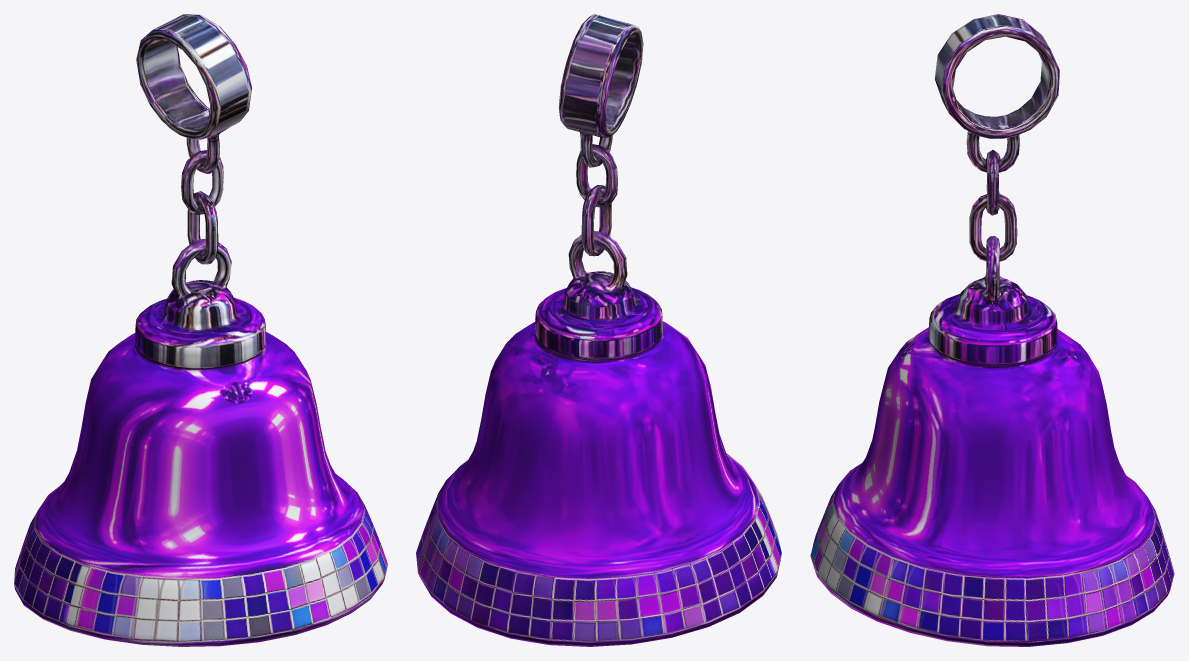
The model's file is tripo_convert_b652edb0-84eb-448b-9f98-1a54256b9759.fbx.
The picture shows the model from 3 angles, left to right: view 1: azimuth 30°, elevation 25°; view 2: azimuth 150°, elevation 25°; view 3: azimuth 270°, elevation 25°; orthographic projection. The views are drawn at different scales.
Visible parts, largest first — view 1: tripo_node_b652edb0; view 2: tripo_node_b652edb0; view 3: tripo_node_b652edb0.
Boxes of the visible parts, x1=… form: tripo_node_b652edb0: x1=14, y1=14, x2=387, y2=646; tripo_node_b652edb0: x1=416, y1=14, x2=781, y2=646; tripo_node_b652edb0: x1=810, y1=14, x2=1174, y2=646.
Bounding box in the file's own units: 0.5637 × 0.9783 × 0.5537.
1 material, 1 textured.
